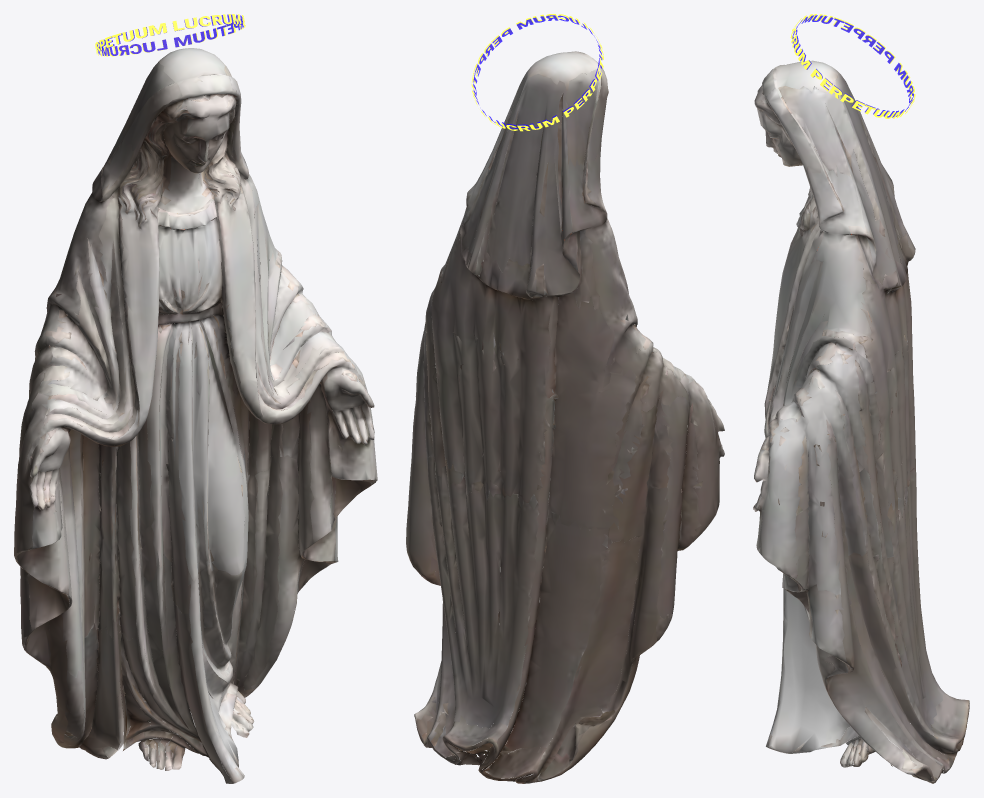
The model's file is CyberpunkMaryHeartRed.glb.
3 renders of one model, left to right at view 1: azimuth 30°, elevation 25°; view 2: azimuth 150°, elevation 25°; view 3: azimuth 270°, elevation 25°, orthographic. The views are drawn at different scales.
Visible parts, largest first — view 1: statue, HaloText1, HaloText2; view 2: statue, HaloText1, HaloText2; view 3: statue, HaloText1, HaloText2.
Boxes of the visible parts, bbox=[...] form: statue: bbox=[14, 48, 377, 783]; HaloText1: bbox=[95, 14, 245, 56]; HaloText2: bbox=[97, 14, 243, 55]; statue: bbox=[406, 51, 724, 783]; HaloText1: bbox=[471, 14, 603, 131]; HaloText2: bbox=[473, 15, 602, 129]; statue: bbox=[753, 60, 969, 783]; HaloText1: bbox=[790, 14, 915, 118]; HaloText2: bbox=[792, 15, 913, 117].
Bounding box in the file's own units: 0.4211 × 0.9197 × 0.2488.
Materials: 6 (3 with a texture image).
